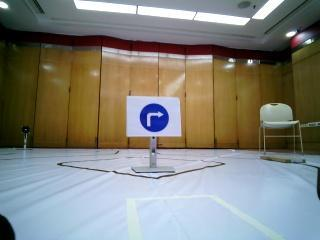right: (126, 98, 182, 138)
